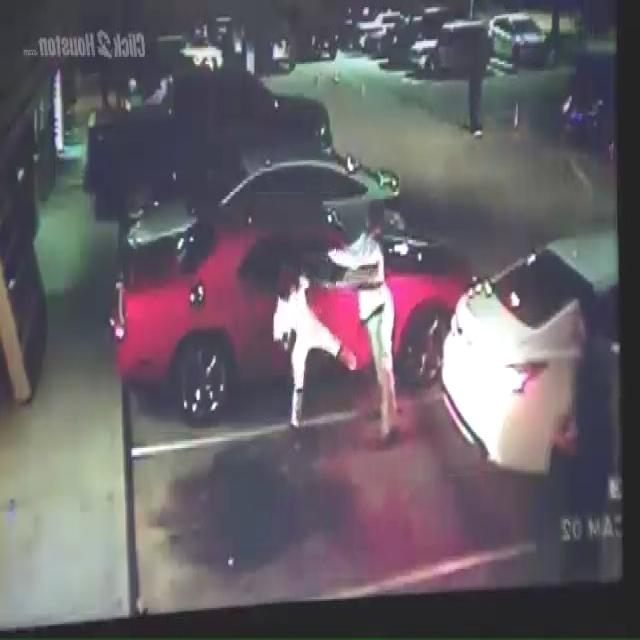fight: (270, 197, 397, 457)
